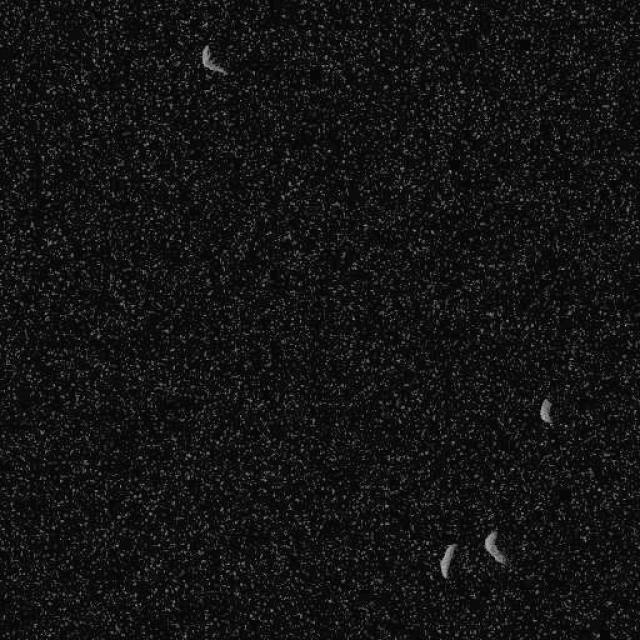D2: (482, 527, 508, 565), (200, 44, 228, 75), (438, 541, 458, 579), (538, 396, 554, 424)
